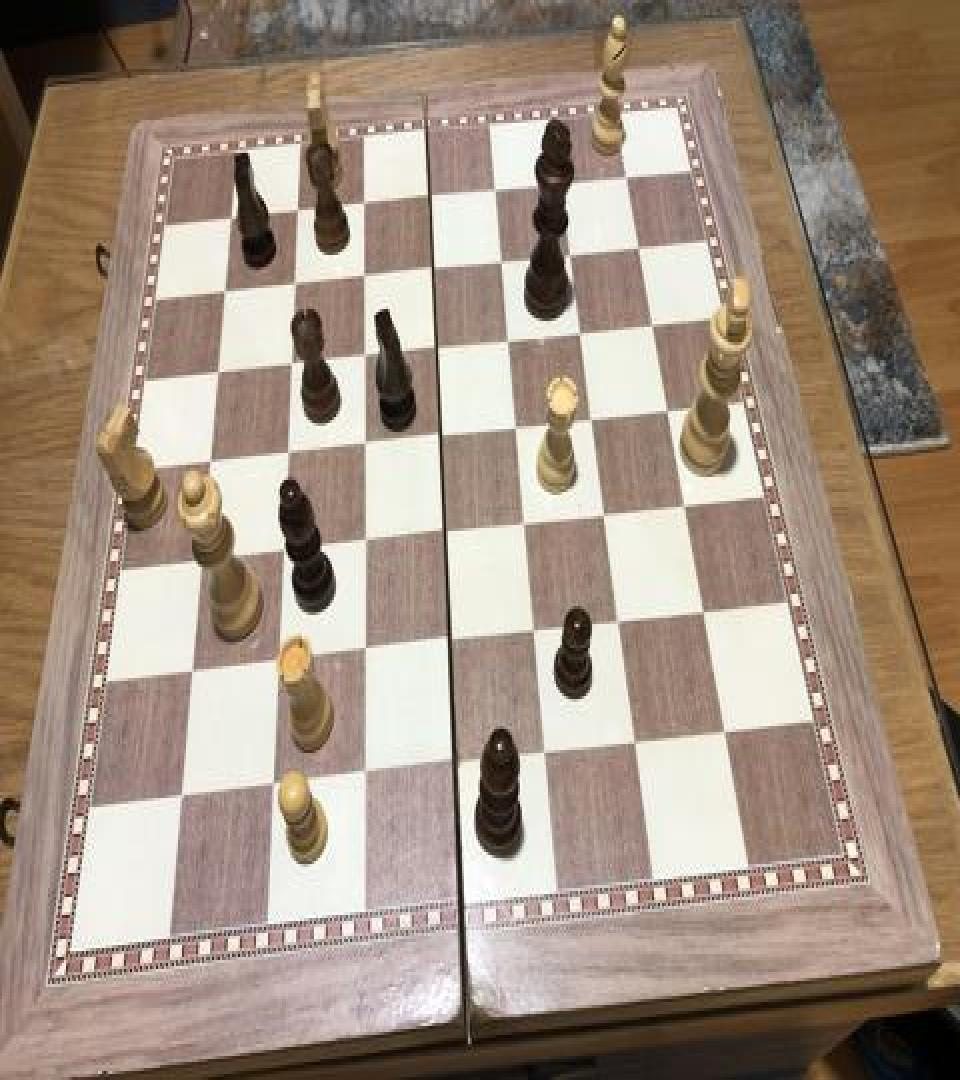xcorner: (435, 514, 459, 551), (696, 595, 720, 632), (179, 652, 203, 689), (168, 778, 192, 815), (619, 160, 643, 196), (553, 166, 577, 202), (421, 178, 445, 214), (354, 186, 378, 222), (287, 192, 311, 228), (219, 198, 243, 234), (632, 231, 656, 267), (563, 237, 587, 273), (494, 244, 518, 280), (424, 250, 448, 286), (354, 258, 378, 294), (284, 266, 308, 302), (213, 272, 237, 308), (645, 309, 669, 345), (573, 315, 597, 351), (500, 322, 524, 358), (427, 330, 451, 366), (354, 338, 378, 374), (280, 345, 304, 381), (206, 352, 230, 388), (661, 394, 685, 430), (584, 402, 608, 438), (508, 410, 532, 446), (431, 418, 455, 454), (354, 426, 378, 462), (276, 434, 300, 470), (198, 442, 222, 478), (677, 489, 701, 525), (597, 498, 621, 534), (516, 507, 540, 543), (354, 524, 378, 560), (272, 532, 296, 568), (189, 542, 213, 578), (611, 604, 635, 640), (526, 615, 550, 651), (440, 624, 464, 660), (354, 633, 378, 669), (267, 644, 291, 680), (717, 714, 741, 750), (627, 724, 651, 760), (537, 735, 561, 771), (445, 746, 469, 782), (354, 758, 378, 794), (261, 768, 285, 804), (487, 173, 511, 208)
